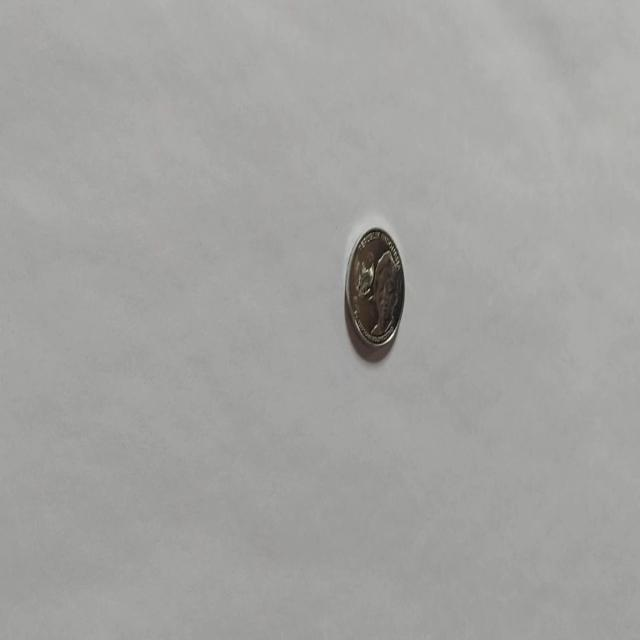dua ratus rupiah: (344, 225, 405, 352)
